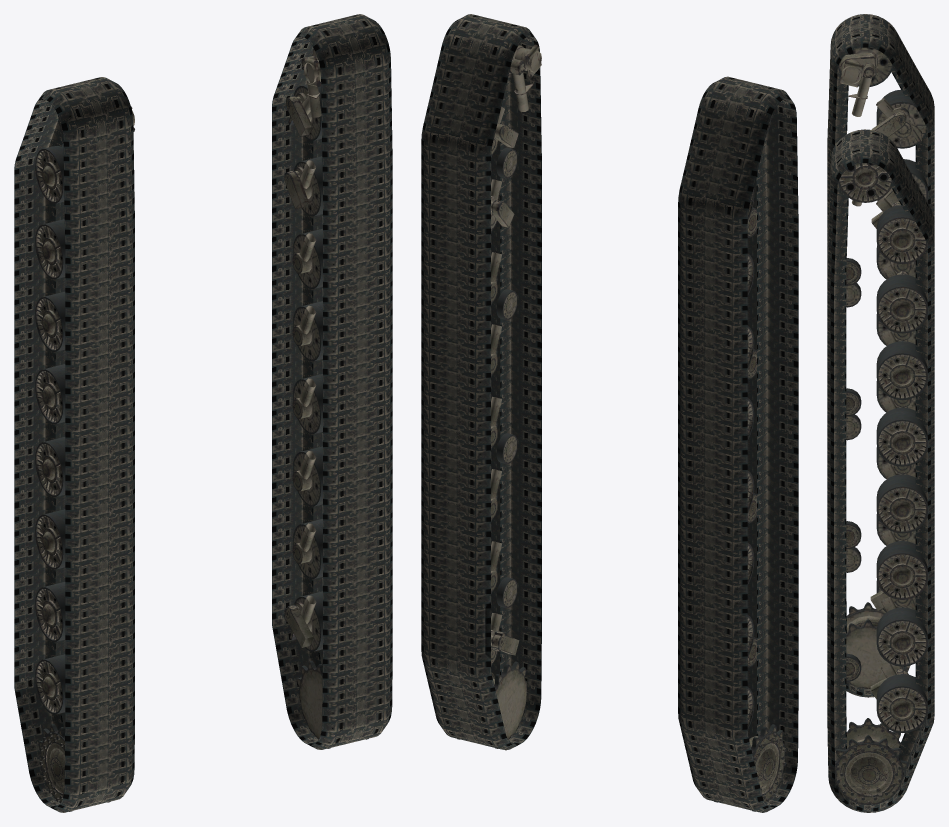
Rendered from Chassis.glb.
3 renders of one model, left to right at view 1: azimuth 30°, elevation 25°; view 2: azimuth 150°, elevation 25°; view 3: azimuth 270°, elevation 25°, orthographic. The views are drawn at different scales.
Parts seen in each view (by area): view 1: set_0_group_0, set_1_group_0, set_3_group_0, set_2_group_0; view 2: set_0_group_0, set_1_group_0, set_3_group_0, set_2_group_0; view 3: set_3_group_0, set_1_group_0, set_2_group_0, set_0_group_0.
Part boxes in pixels (x1,y1,x2,y2): set_0_group_0: (14, 77, 134, 812); set_1_group_0: (272, 14, 392, 749); set_3_group_0: (283, 49, 380, 748); set_2_group_0: (35, 106, 134, 811); set_0_group_0: (678, 76, 798, 812); set_1_group_0: (421, 14, 541, 750); set_3_group_0: (446, 44, 541, 748); set_2_group_0: (703, 115, 786, 811); set_3_group_0: (835, 163, 927, 805); set_1_group_0: (827, 129, 934, 812); set_2_group_0: (838, 47, 927, 688); set_0_group_0: (827, 14, 934, 697).
Bounding box in the file's own units: 3.38 × 7.08 × 1.04.
Materials: 4 (4 with a texture image).
